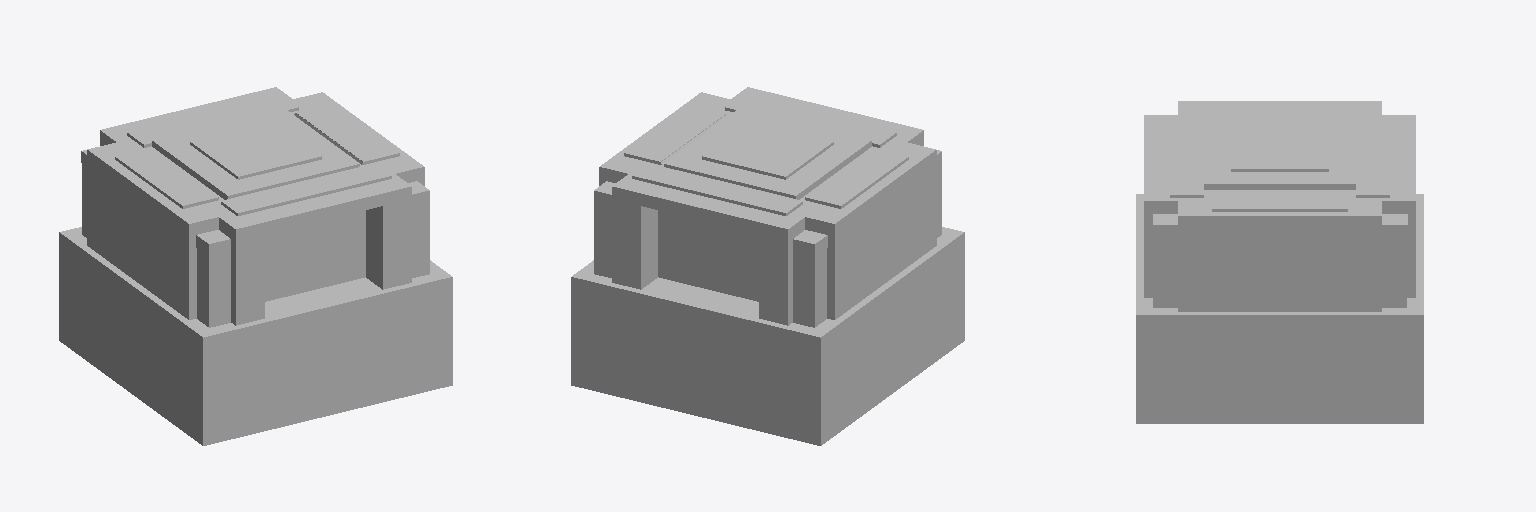
Rendered from meltedReactor.obj.
The picture shows the model from 3 angles: view 1: azimuth 30°, elevation 25°; view 2: azimuth 150°, elevation 25°; view 3: azimuth 270°, elevation 25°; orthographic projection.
Visible parts, largest first — view 1: cube; view 2: cube; view 3: cube.
Part boxes in pixels (bbox=[...]): cube: bbox=[59, 87, 452, 445]; cube: bbox=[571, 87, 964, 445]; cube: bbox=[1136, 101, 1423, 423].
Bounding box in the file's own units: 12 × 9.86 × 12.